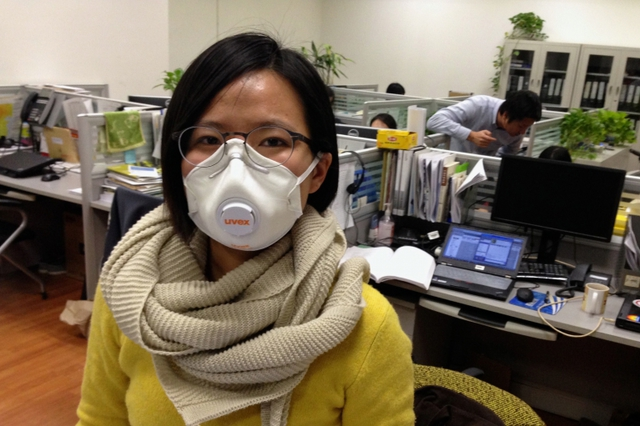mask: (191, 155, 306, 245)
